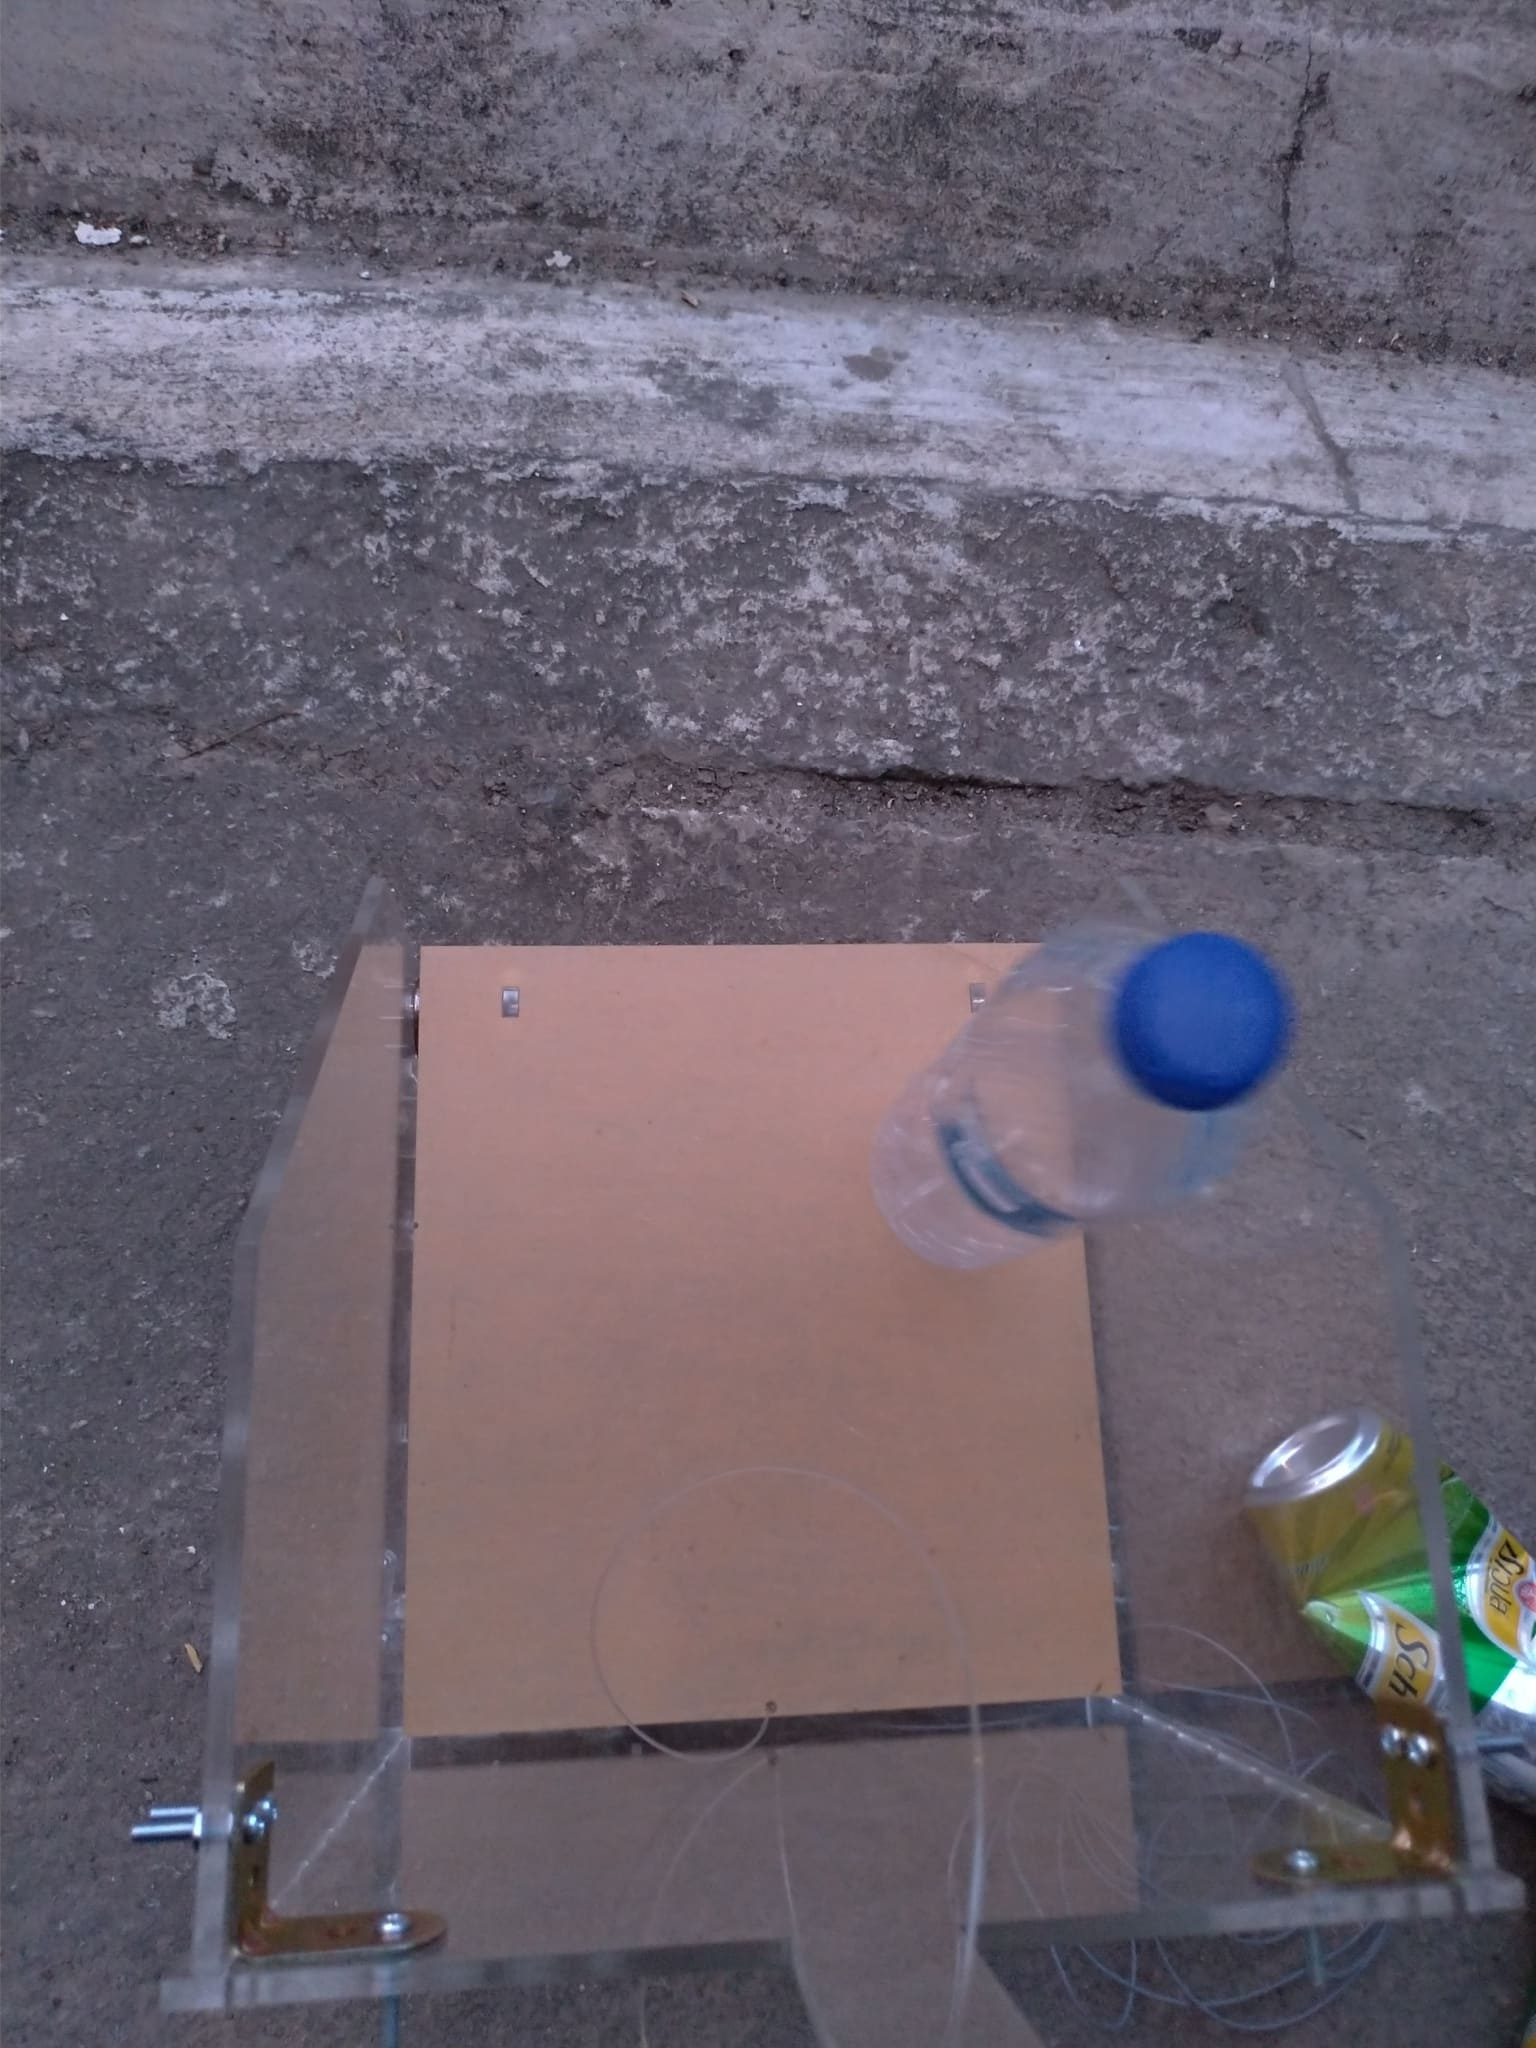AlCan: (1244, 1406, 1536, 1793)
PlasticBottle: (876, 926, 1289, 1290)
